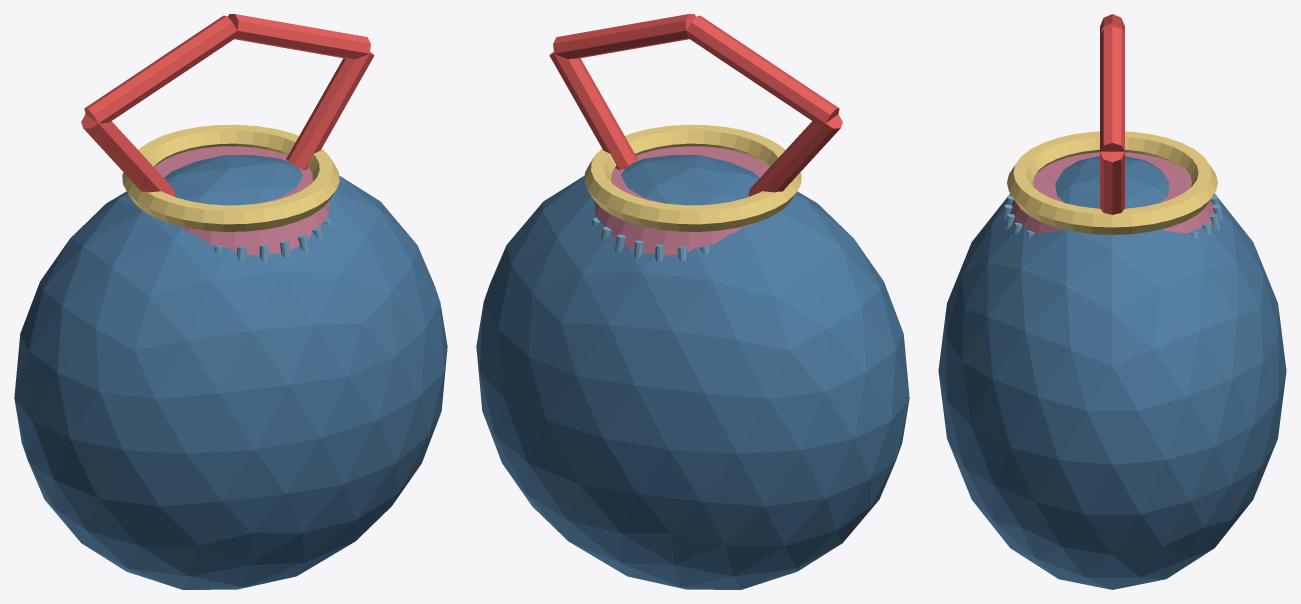
The model's file is wear_kinchaku.glb.
3 renders of one model, left to right at view 1: azimuth 30°, elevation 25°; view 2: azimuth 150°, elevation 25°; view 3: azimuth 270°, elevation 25°, orthographic. The views are drawn at different scales.
Visible parts, largest first — view 1: Kinchaku rounded textile body, Braided silk closure, Double drawcord_01, Gathered bag neck, Double drawcord_02, Double drawcord_03, Double drawcord_00; view 2: Kinchaku rounded textile body, Braided silk closure, Double drawcord_01, Gathered bag neck, Double drawcord_02, Double drawcord_03, Double drawcord_00; view 3: Kinchaku rounded textile body, Braided silk closure, Gathered bag neck, Double drawcord_02, Double drawcord_03.
Boxes of the visible parts, bbox=[...] form: Kinchaku rounded textile body: bbox=[14, 155, 447, 589]; Braided silk closure: bbox=[122, 124, 339, 231]; Double drawcord_01: bbox=[84, 15, 237, 123]; Gathered bag neck: bbox=[154, 146, 328, 255]; Double drawcord_02: bbox=[227, 14, 370, 59]; Double drawcord_03: bbox=[286, 52, 374, 170]; Double drawcord_00: bbox=[81, 114, 175, 196]; Kinchaku rounded textile body: bbox=[476, 155, 909, 589]; Braided silk closure: bbox=[584, 124, 801, 231]; Double drawcord_01: bbox=[686, 15, 839, 123]; Gathered bag neck: bbox=[595, 146, 769, 255]; Double drawcord_02: bbox=[553, 14, 696, 59]; Double drawcord_03: bbox=[549, 52, 637, 170]; Double drawcord_00: bbox=[748, 114, 842, 196]; Kinchaku rounded textile body: bbox=[938, 156, 1286, 589]; Braided silk closure: bbox=[1007, 131, 1217, 234]; Gathered bag neck: bbox=[1010, 152, 1214, 233]; Double drawcord_02: bbox=[1100, 26, 1124, 151]; Double drawcord_03: bbox=[1100, 151, 1124, 214].
Bounding box in the file's own units: 1.44 × 1.95 × 1.13.
